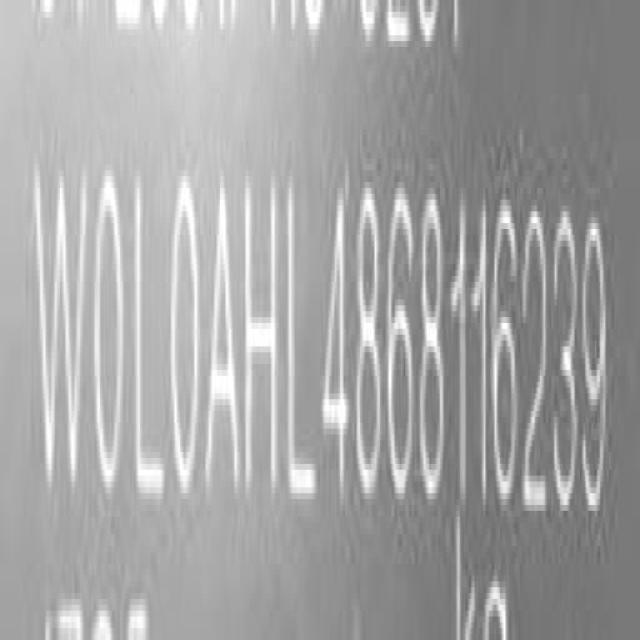0: (92, 165, 128, 512), (170, 167, 204, 511)
1: (450, 187, 471, 508), (469, 192, 488, 515)
2: (523, 201, 550, 516)
3: (554, 210, 581, 518)
4: (320, 178, 351, 515)
6: (388, 184, 418, 511), (492, 200, 523, 515)
8: (418, 187, 447, 510), (356, 180, 384, 514)
9: (583, 217, 610, 517)
A: (205, 172, 242, 513)
H: (244, 170, 282, 515)
L: (128, 164, 163, 515), (287, 174, 319, 518)
W: (32, 163, 86, 516)
